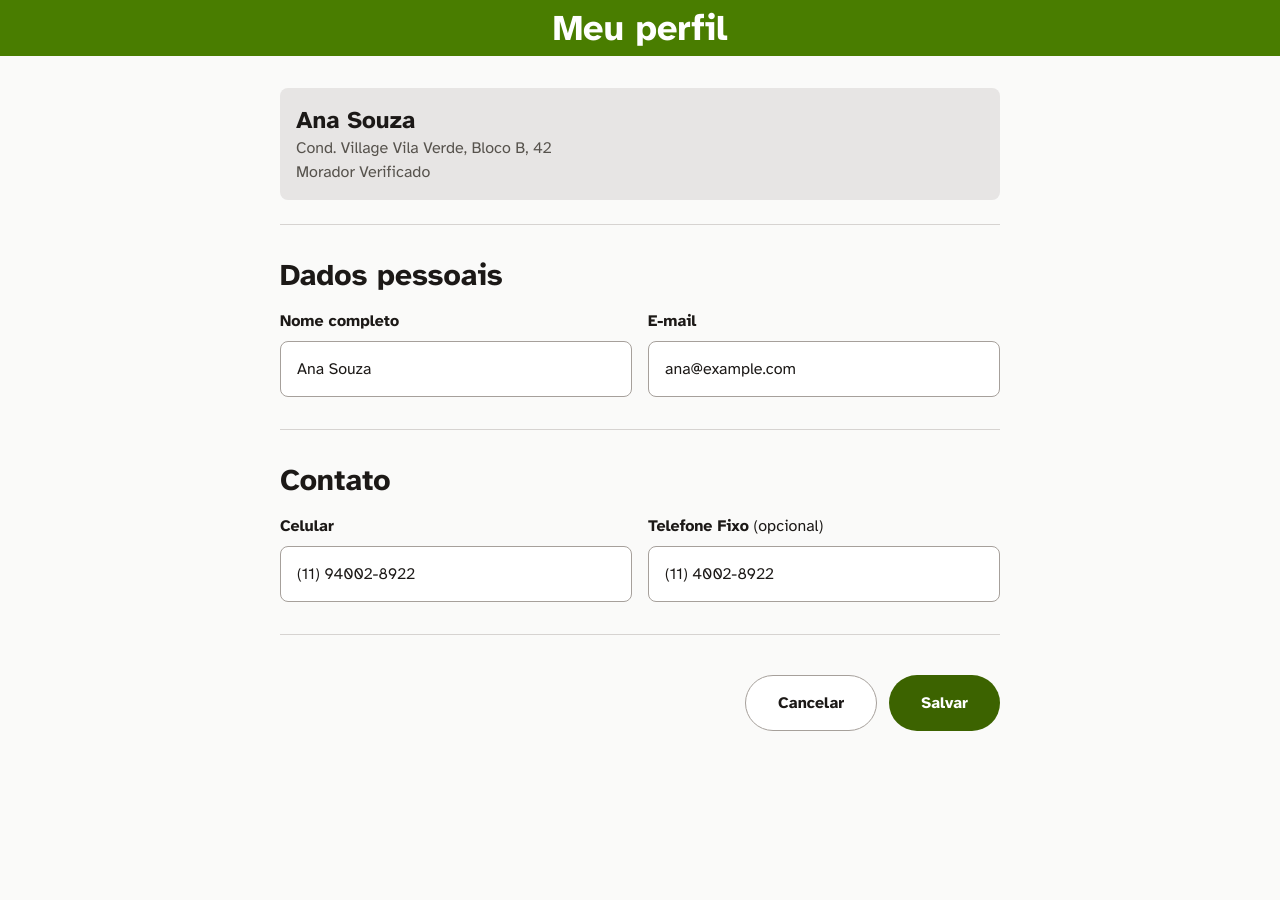
Test: MyProfile › undoes the edits on cancel
The image size is (1280, 900).
Replace the text in the field labelled "Nome completo" with "Outro Nome". click: (456, 369)
box: [280,341,632,397]
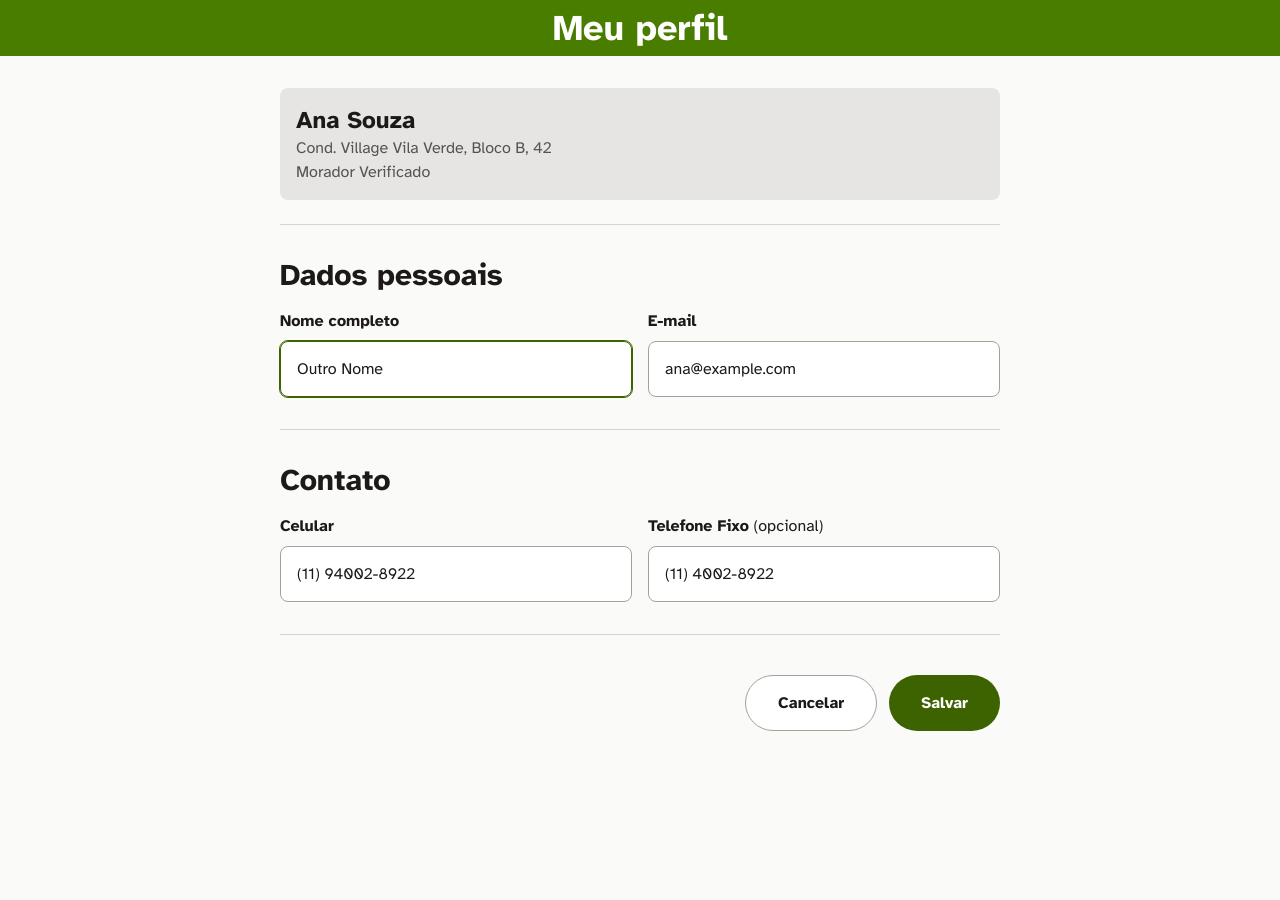
Replace the text in the field labelled "Celular" with "11900000000". click: (456, 574)
box: [280,546,632,602]
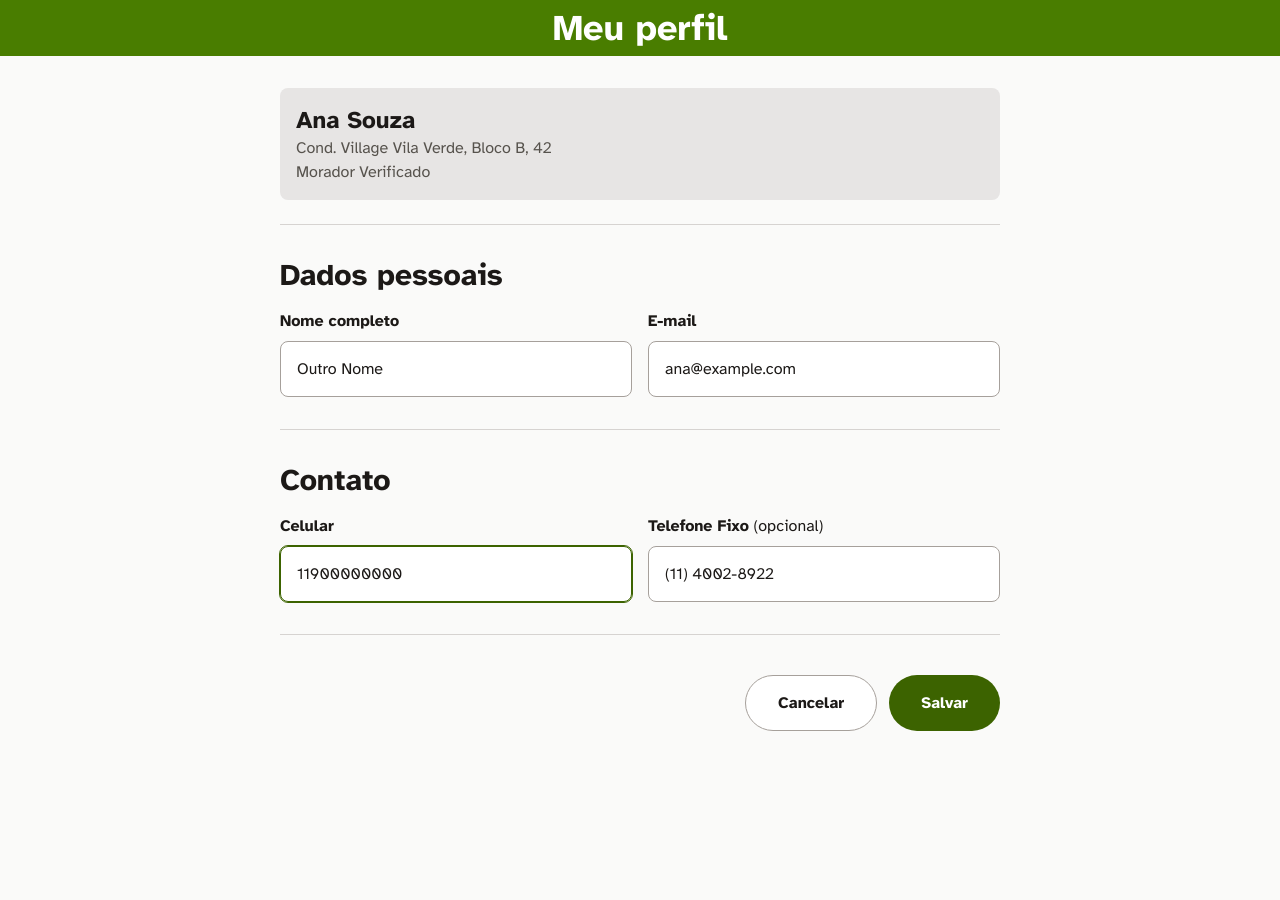
Click the button "Cancelar". click: (811, 703)
box: [745,675,877,731]
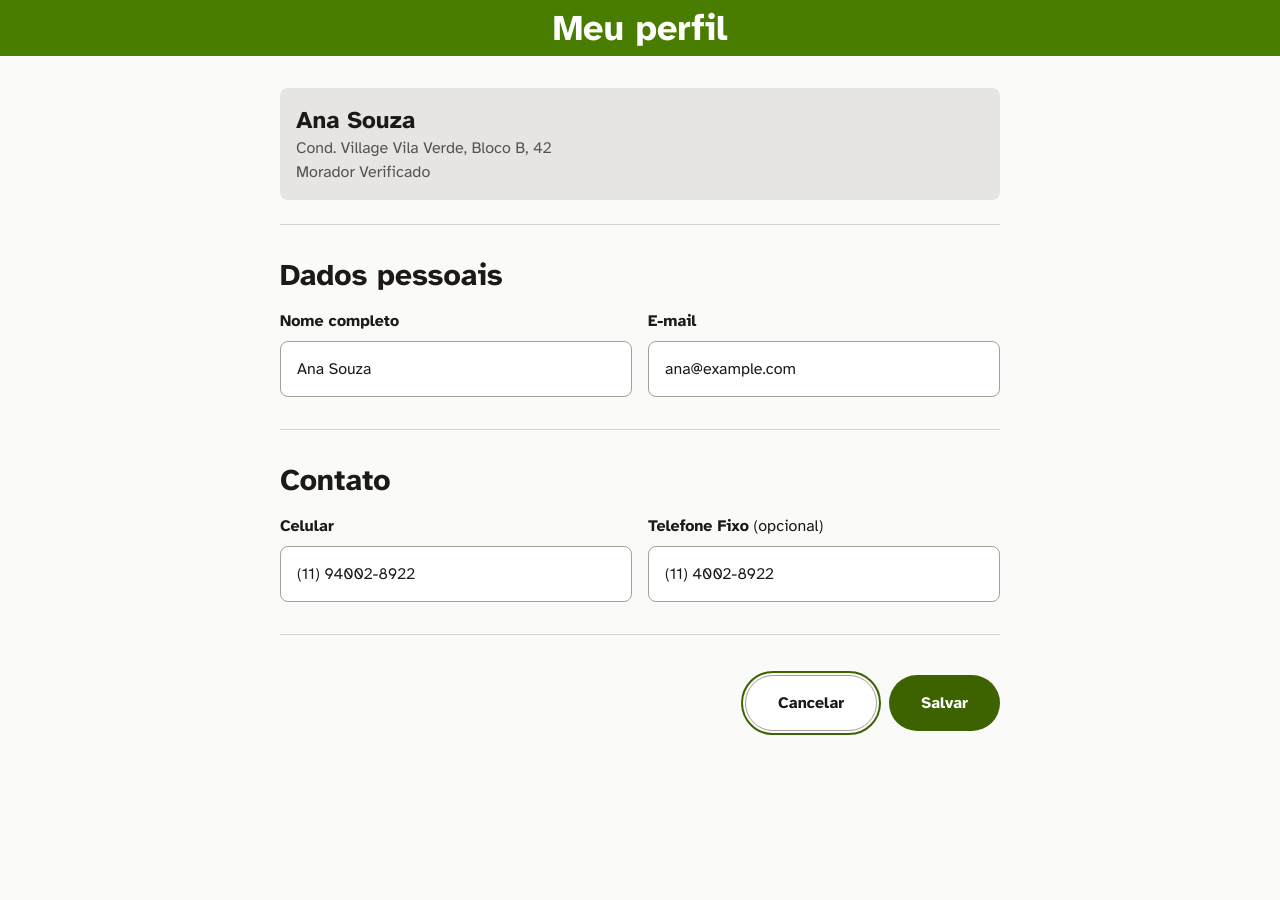
Expected: the field labelled "Nome completo" holds "Ana Souza", [280,341,632,397]
Expected: the field labelled "Celular" holds "(11) 94002-8922", [280,546,632,602]
